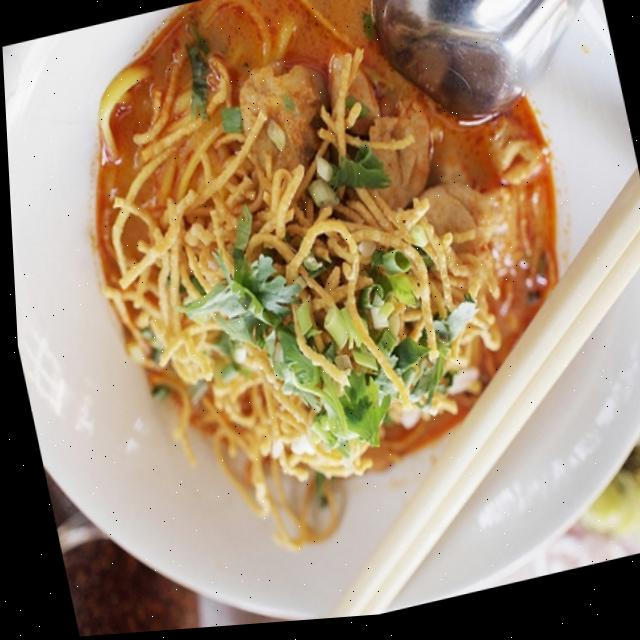面条主食: (44, 0, 581, 533)
